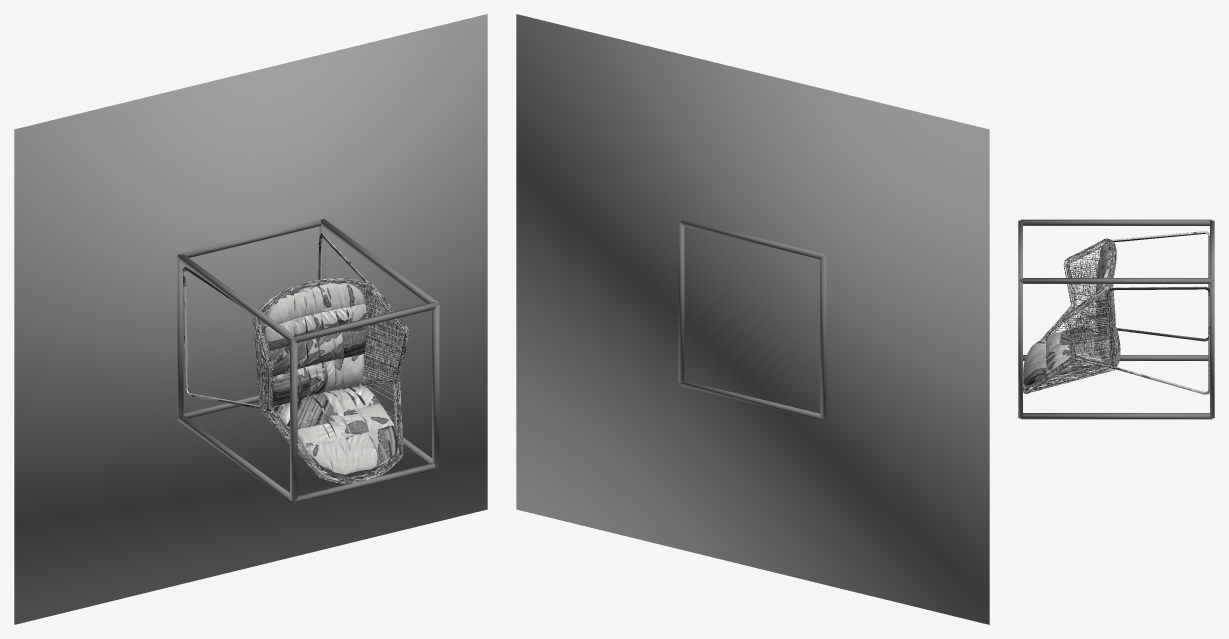
3 views of the same model, side by side, from view 1: azimuth 30°, elevation 25°; view 2: azimuth 150°, elevation 25°; view 3: azimuth 270°, elevation 25° (orthographic). The views are drawn at different scales.
Size of the model in its own units: 2 by 2 by 0.8535.
